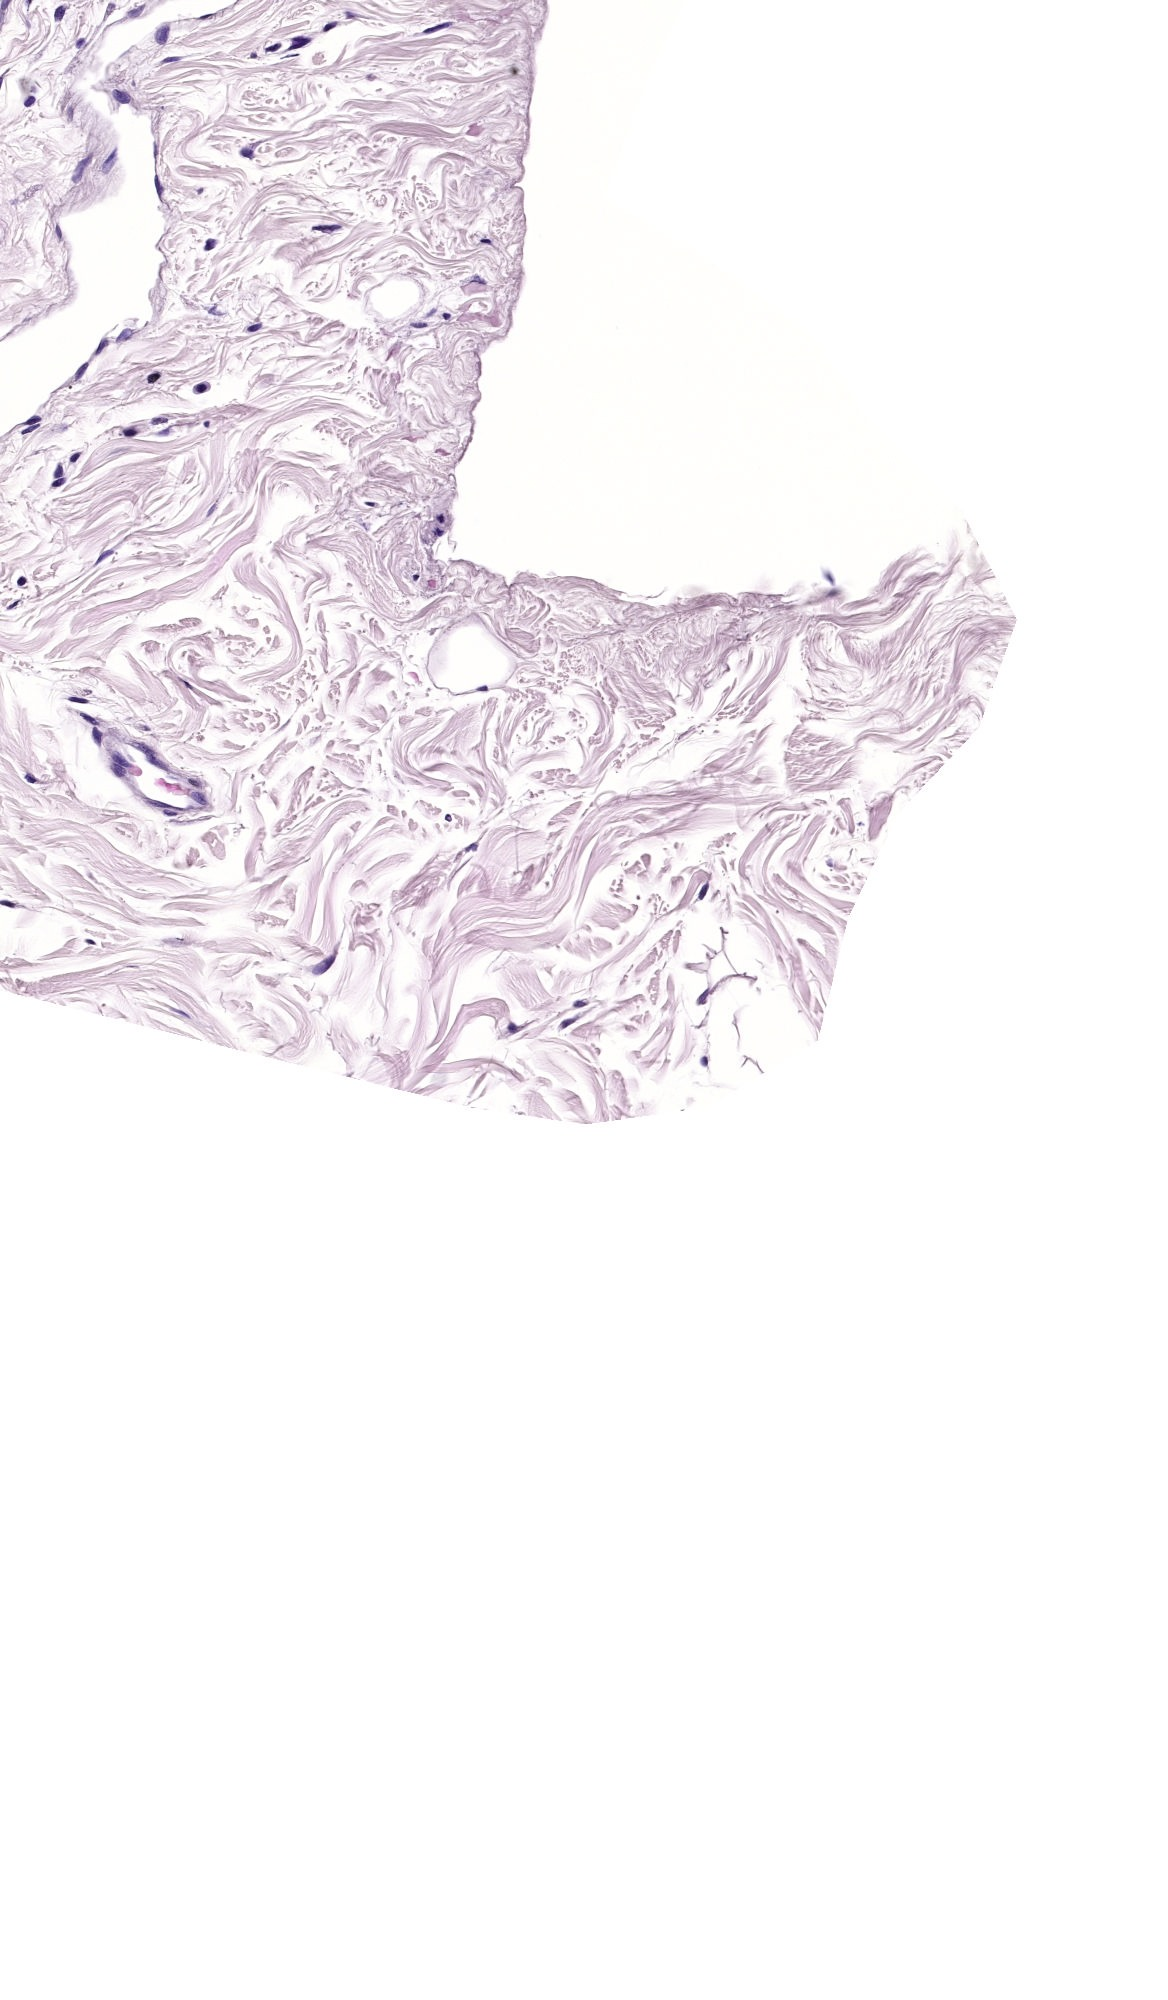fibroblast and endothelial: (296, 40, 302, 47), (78, 163, 82, 171), (160, 32, 163, 39), (323, 227, 330, 229), (118, 95, 122, 99), (246, 151, 250, 156), (142, 746, 146, 751), (323, 960, 327, 965), (156, 183, 159, 189), (115, 759, 120, 762), (167, 58, 172, 60), (435, 26, 441, 28), (75, 699, 81, 700), (197, 795, 200, 798), (153, 802, 159, 803), (702, 994, 705, 997), (268, 49, 273, 50), (576, 1003, 580, 1005), (482, 239, 485, 240), (13, 605, 14, 607), (103, 555, 106, 556), (26, 778, 29, 780), (168, 813, 171, 814), (566, 1022, 569, 1023), (90, 942, 92, 945), (4, 902, 6, 903)
inflammatory: (197, 386, 202, 389)
lymphocyte: (156, 418, 161, 421), (28, 100, 31, 103), (122, 332, 125, 335), (127, 432, 132, 434), (163, 431, 165, 434), (100, 343, 102, 347), (82, 368, 83, 372), (152, 378, 154, 379), (417, 324, 419, 327), (252, 327, 253, 329), (75, 456, 76, 459), (31, 420, 32, 421), (28, 429, 29, 431), (368, 503, 370, 505)
